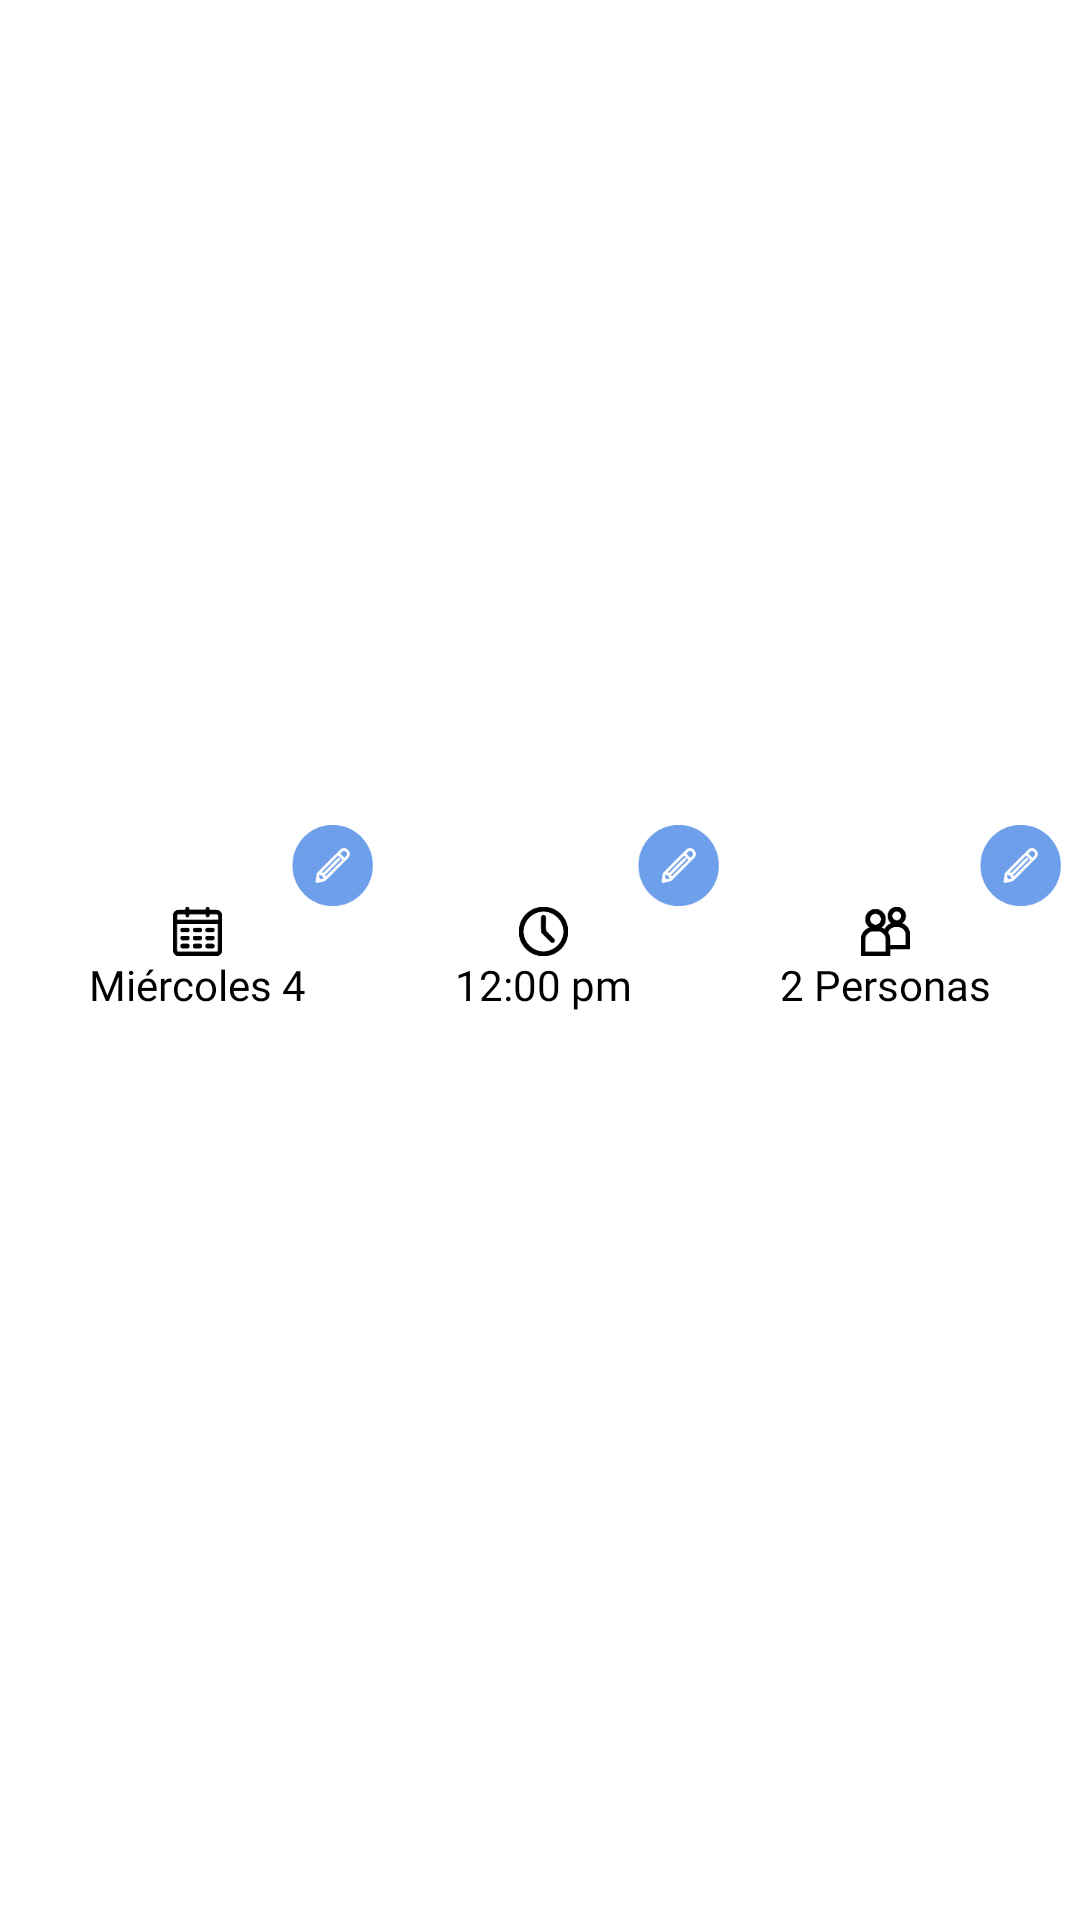

Named icons in this screenshot (1080x1920) and their centers, [x,y]:
calendario reservation: [197,931]
circle pencil: [332,865], [678,865], [1020,865]
relojito reservation: [543,931]
